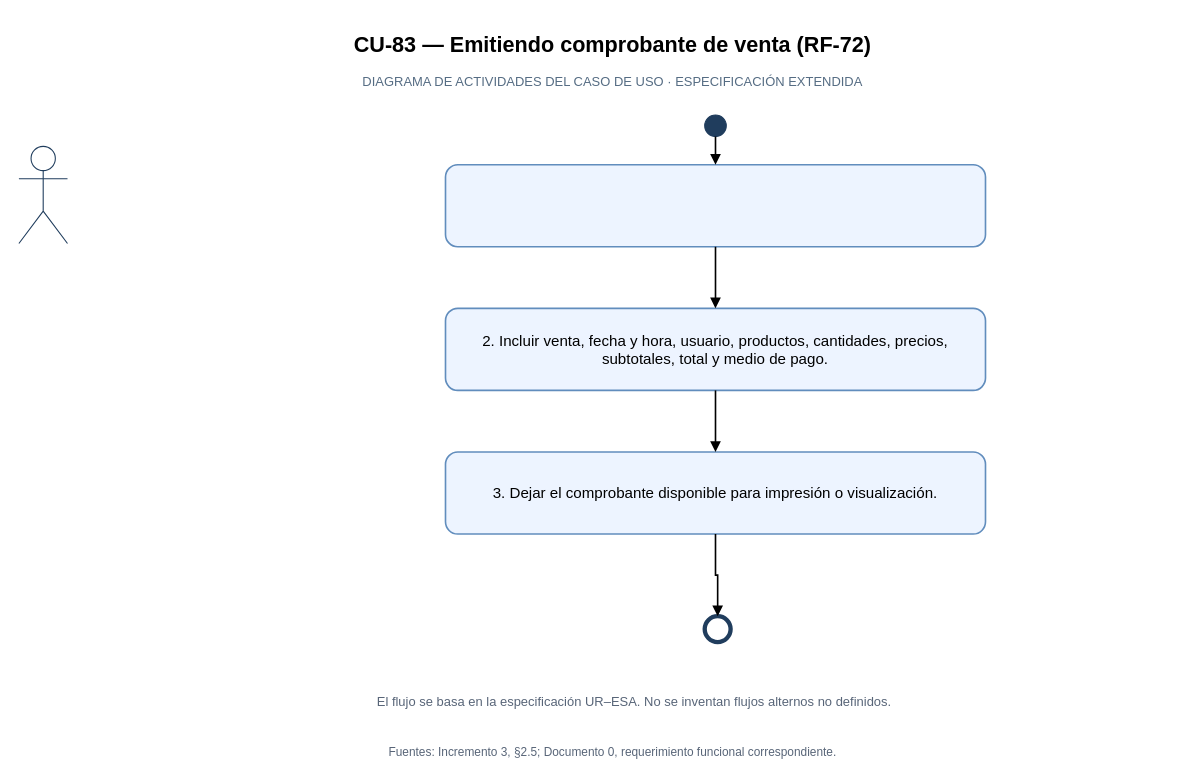
Some shapes in this 1193 by 783 pixel diagram are drawn without their labels. Each missing label, with the centre of its shape:
"1. Generar automáticamente el comprobante al confirmarse la venta." goes at pixel 715 205.
"Cajero" goes at pixel 43 194.
